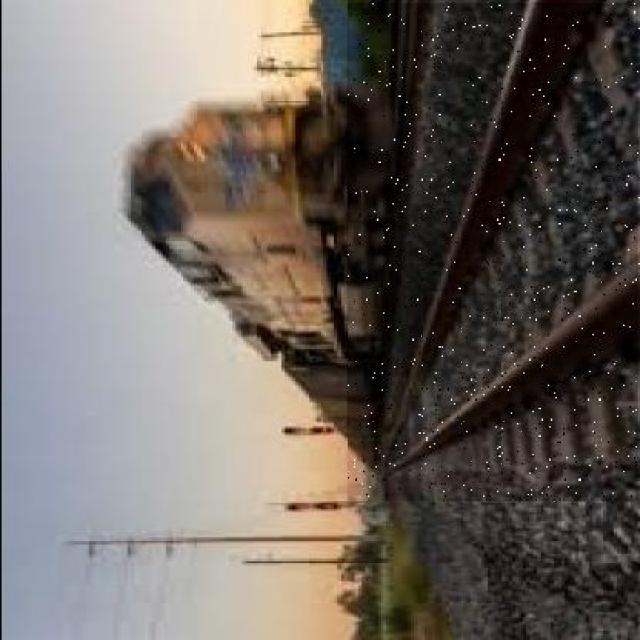rail: (349, 4, 639, 502)
